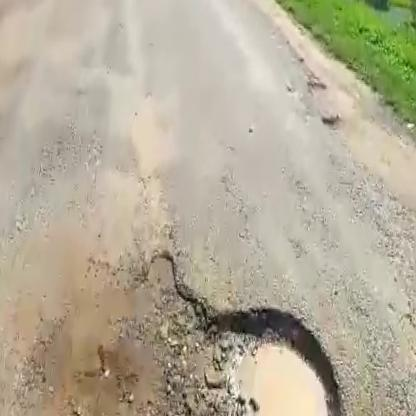pothole: (8, 236, 365, 416)
